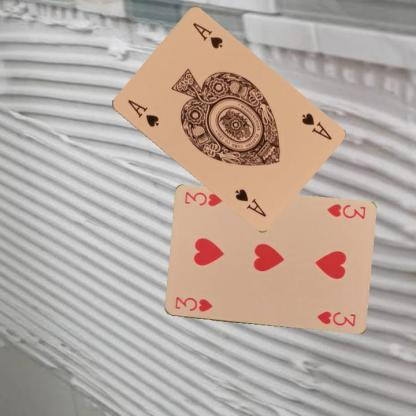3h: (324, 201, 366, 221), (172, 294, 213, 313)
As: (124, 96, 160, 128), (299, 110, 333, 141)
